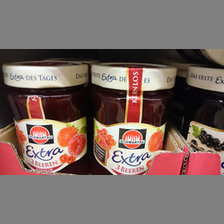jam: (90, 61, 178, 175), (2, 61, 89, 173)
